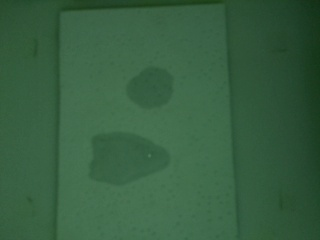Water_detected: (103, 142, 162, 191), (129, 70, 166, 103)
